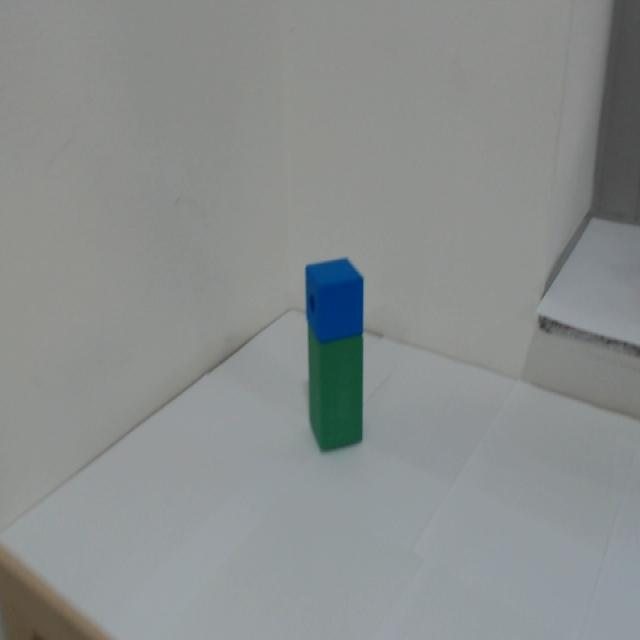cube: (282, 236, 389, 342)
